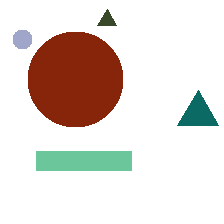circle: (28, 32, 122, 126), (13, 30, 31, 48)
rectangle: (36, 151, 131, 170)
triangle: (177, 90, 218, 125), (97, 9, 116, 25)
